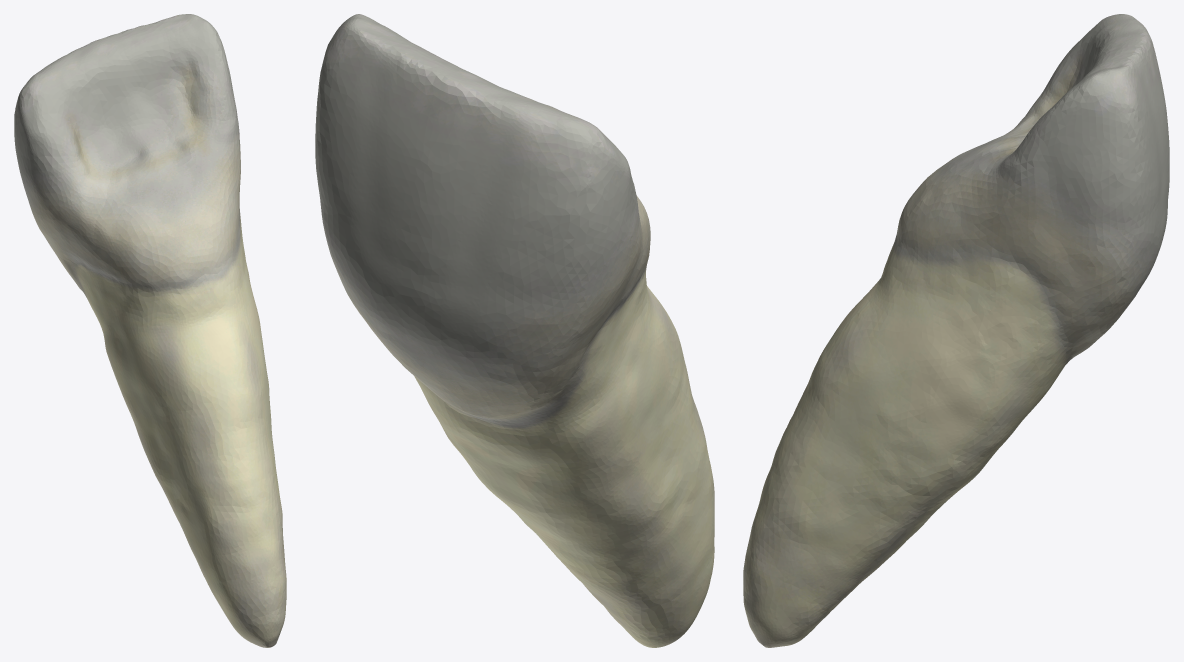
File: 11- incisivo central superior direito.glb
3 renders of one model, left to right at view 1: azimuth 30°, elevation 25°; view 2: azimuth 150°, elevation 25°; view 3: azimuth 270°, elevation 25°, orthographic. The views are drawn at different scales.
Visible parts, largest first — view 1: 3MFMeshParent_0; view 2: 3MFMeshParent_0; view 3: 3MFMeshParent_0.
Part boxes in pixels (bbox=[...]): 3MFMeshParent_0: bbox=[14, 14, 286, 647]; 3MFMeshParent_0: bbox=[315, 14, 714, 647]; 3MFMeshParent_0: bbox=[743, 14, 1169, 647].
Bounding box in the file's own units: 0.2119 × 0.512 × 0.3212.
Materials: 1 (1 with a texture image).
